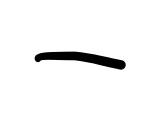minus: (34, 52, 126, 70)
